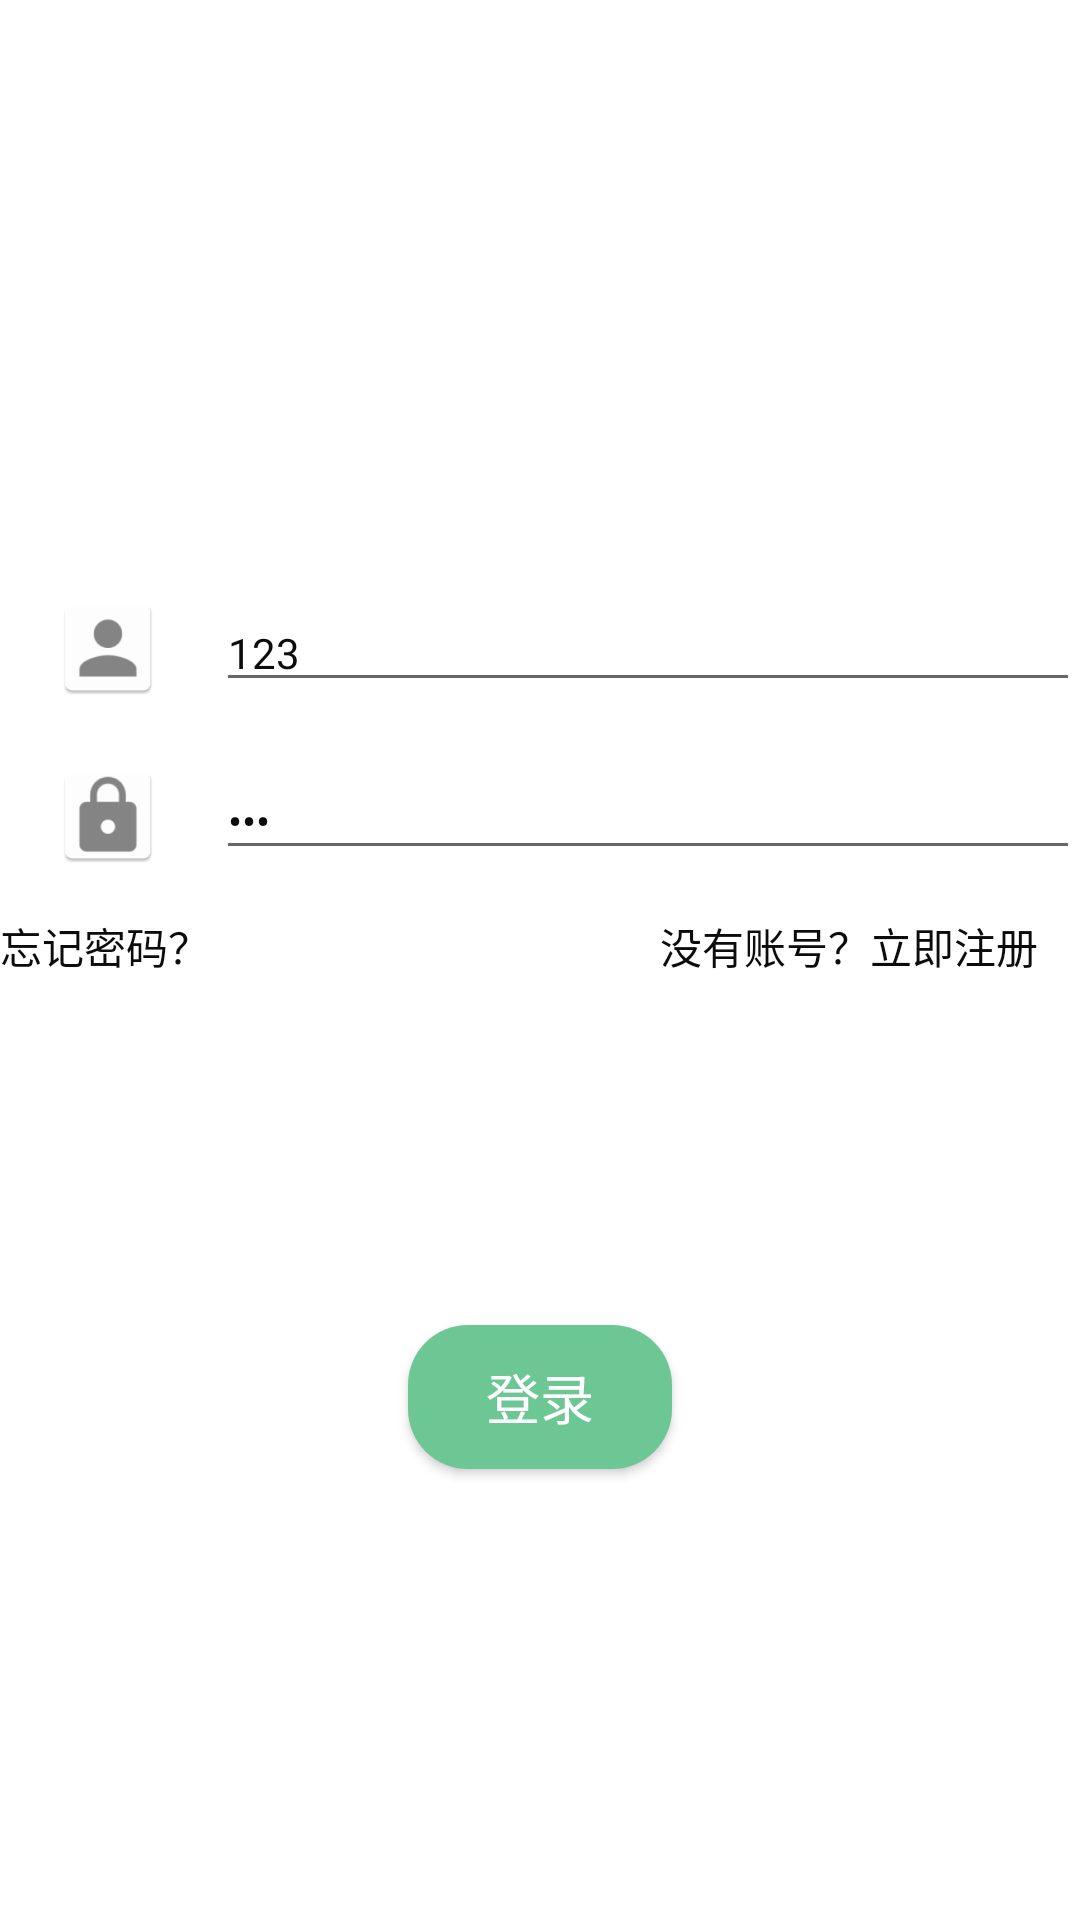

Screen size 1080px x 1920px. Icon name, then its center in pixels as [x,y]:
password: [108,818]
user: [108,651]
